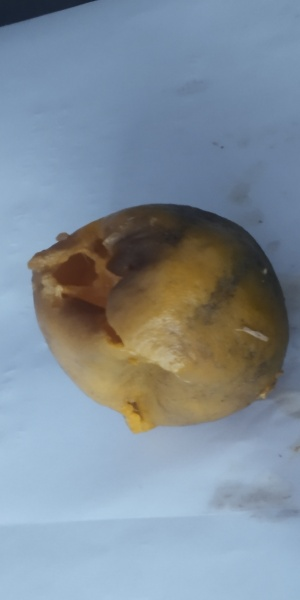BAD: (30, 201, 287, 422)
